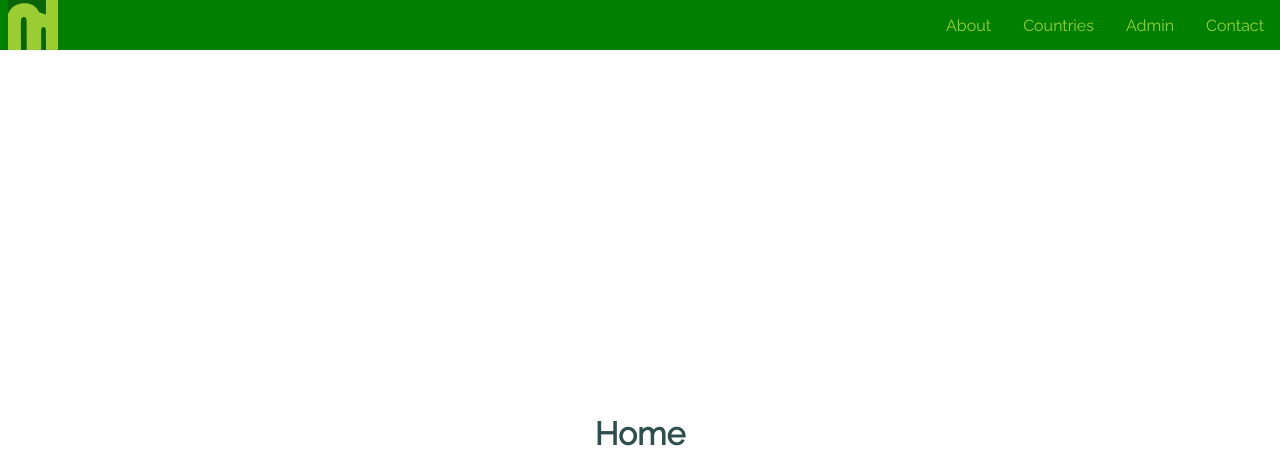
Test: App navigation › clicking on the about link should go to the about page
Click the link "About": (969, 25) [946, 16, 991, 34]
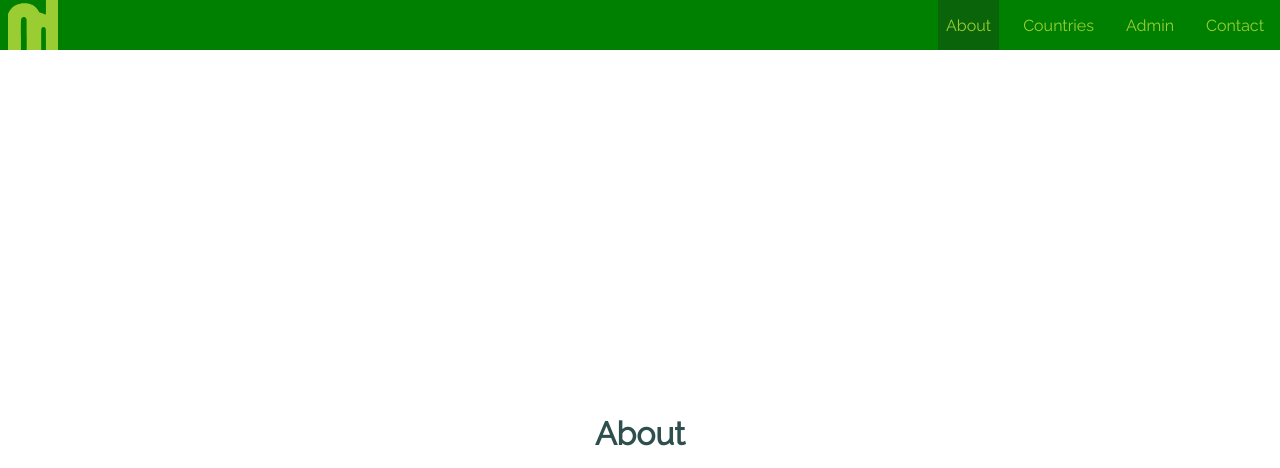
Now the heading "About" is shown, box [595, 414, 685, 452]
